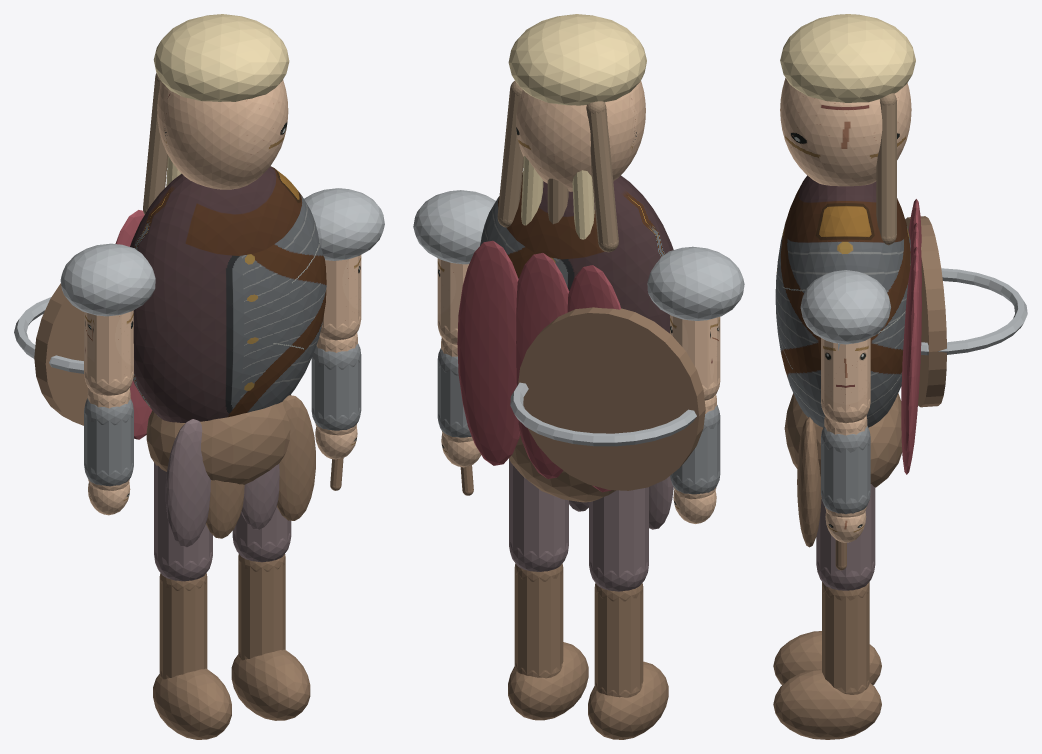
The model's file is Midgard_Hero_Valkyrie_Skin_V3_Textured_YUP.glb.
The picture shows the model from 3 angles, left to right: view 1: azimuth 30°, elevation 25°; view 2: azimuth 150°, elevation 25°; view 3: azimuth 270°, elevation 25°; orthographic projection. The views are drawn at different scales.
Visible parts, largest first — view 1: Torso, Head, HairCap, Pelvis, Shoulder_L, Shield, Shin_L, Shin_R, Boot_R, Boot_L, Skirt_0, Shoulder_R (+16 smaller); view 2: Shield, Torso, CapePanel_2, HairCap, Head, Shoulder_L, Thigh_L, Shin_R, Shin_L, Thigh_R, CapePanel_1, Shoulder_R (+17 smaller); view 3: Torso, HairCap, Head, Boot_R, Shoulder_R, Shin_R, Shield, Vambrace_R, UpperArm_R, CapePanel_2, Thigh_R, Pelvis (+6 smaller).
Part boxes in pixels (box(x1,y1,x2,y2)): Torso: box(130, 166, 326, 422); Head: box(157, 80, 288, 189); HairCap: box(153, 14, 289, 101); Pelvis: box(146, 395, 291, 484); Shoulder_L: box(60, 243, 155, 316); Shield: box(34, 283, 88, 425); Shin_L: box(159, 573, 207, 679); Shin_R: box(238, 554, 285, 660); Boot_R: box(231, 649, 310, 720); Boot_L: box(153, 668, 231, 739); Skirt_0: box(165, 419, 210, 547); Shoulder_R: box(304, 188, 384, 260); Shield: box(518, 307, 705, 490); Torso: box(480, 172, 673, 333); CapePanel_2: box(457, 240, 520, 465); HairCap: box(508, 14, 646, 105); Head: box(516, 81, 645, 191); Shoulder_L: box(647, 246, 744, 320); Thigh_L: box(589, 487, 648, 591); Shin_R: box(514, 563, 563, 678); Shin_L: box(594, 583, 643, 697); Thigh_R: box(509, 459, 568, 571); CapePanel_1: box(516, 253, 569, 478); Shoulder_R: box(413, 190, 495, 264); Torso: box(775, 175, 910, 427); HairCap: box(780, 14, 915, 102); Head: box(780, 78, 911, 186); Boot_R: box(773, 669, 881, 739); Shoulder_R: box(800, 270, 890, 344); Shin_R: box(822, 582, 869, 694); Shield: box(905, 216, 946, 407); Vambrace_R: box(821, 426, 870, 514); UpperArm_R: box(821, 338, 870, 423); CapePanel_2: box(901, 247, 921, 474); Thigh_R: box(816, 484, 875, 590); Pelvis: box(784, 393, 902, 487).
Size of the model in its own units: 1.6 by 3.38 by 1.12.
Materials: 10 (2 with a texture image).
